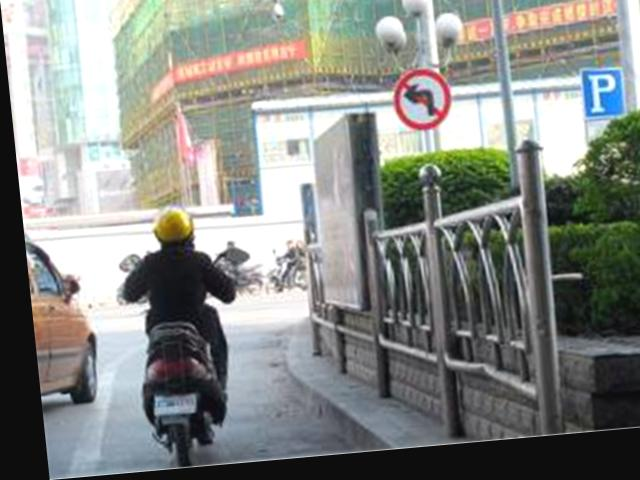not_turn_left: (388, 72, 450, 142)
